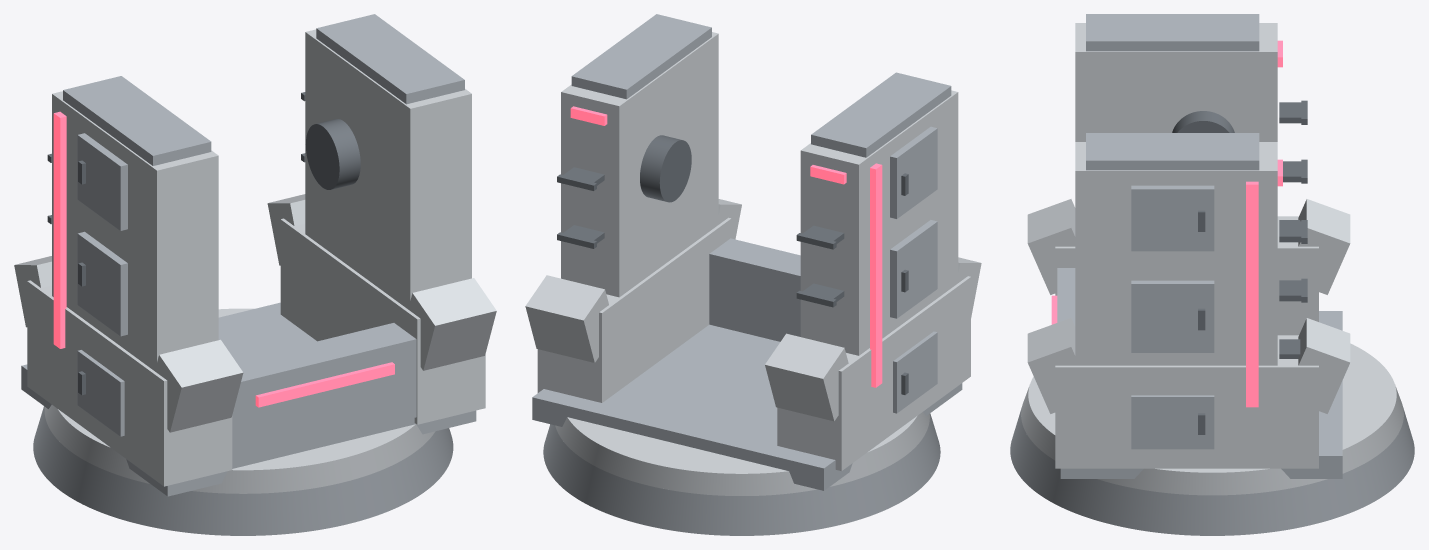
Rendered from RapidFire_turret.glb.
3 renders of one model, left to right at view 1: azimuth 30°, elevation 25°; view 2: azimuth 150°, elevation 25°; view 3: azimuth 270°, elevation 25°, orthographic. The views are drawn at different scales.
Visible parts, largest first — view 1: RapidFire_Turret; view 2: RapidFire_Turret; view 3: RapidFire_Turret.
Part boxes in pixels (x1,y1,x2,y2): RapidFire_Turret: (14,14,496,535); RapidFire_Turret: (525,14,981,535); RapidFire_Turret: (1010,14,1414,535).
Size of the model in its own units: 2.24 by 2.22 by 2.24.
